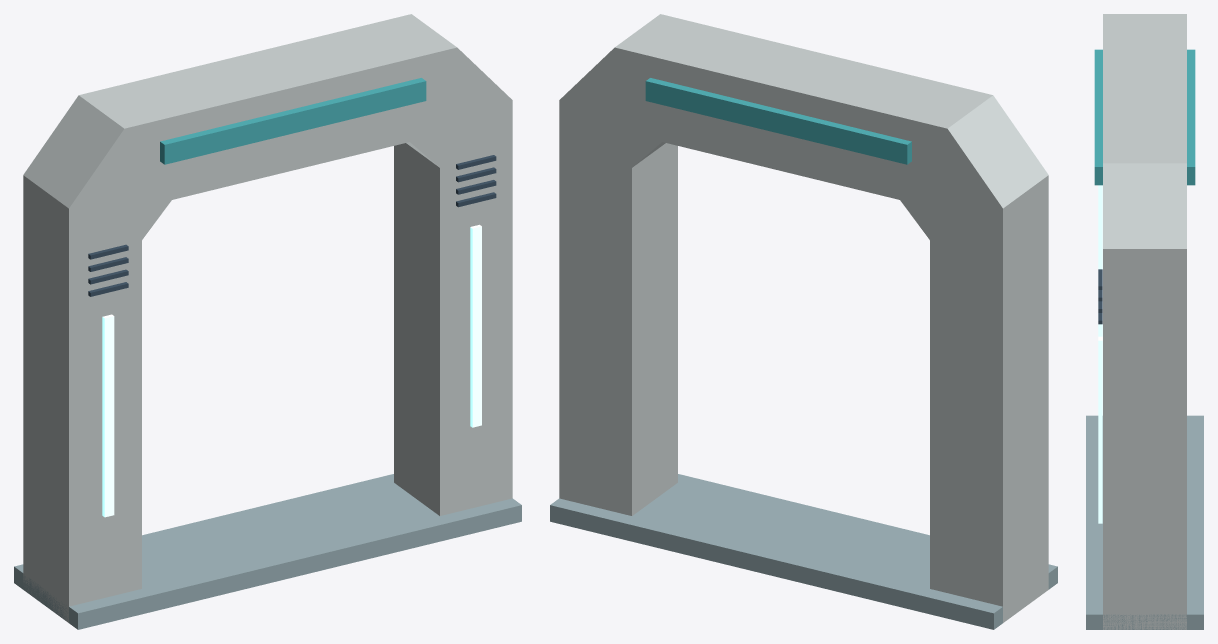
Rendered from orbital-field-station-freestanding-airlock-gate__141.glb.
3 views of the same model, side by side, from view 1: azimuth 30°, elevation 25°; view 2: azimuth 150°, elevation 25°; view 3: azimuth 270°, elevation 25° (orthographic). The views are drawn at different scales.
Visible parts, largest first — view 1: shell, metal, accent, light, dark; view 2: shell, metal, accent; view 3: shell, metal, accent, light, dark.
Part boxes in pixels (x1=…): shell: x1=23, y1=14, x2=512, y2=622; metal: x1=14, y1=474, x2=521, y2=629; accent: x1=160, y1=78, x2=426, y2=164; light: x1=102, y1=224, x2=481, y2=517; dark: x1=88, y1=155, x2=496, y2=296; shell: x1=559, y1=14, x2=1048, y2=622; metal: x1=550, y1=474, x2=1057, y2=629; accent: x1=645, y1=78, x2=911, y2=164; shell: x1=1103, y1=14, x2=1186, y2=629; metal: x1=1086, y1=415, x2=1203, y2=629; accent: x1=1094, y1=49, x2=1195, y2=185; light: x1=1098, y1=185, x2=1102, y2=523; dark: x1=1098, y1=269, x2=1102, y2=324.
Size of the model in its own units: 2.8 by 2.9 by 0.7.
